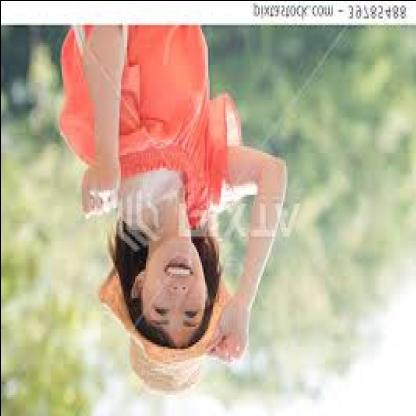hat: (94, 260, 244, 398)
